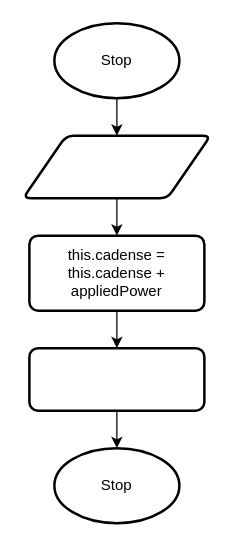
Some shapes in this 233 by 545 pixel diagram are drawn without their labels. Here are the shapes that lost their labels. From the top down, the centre of each, then its label:
(116,166): get appliedPower
(116,378): this.speedCar = this.cadense * 2
